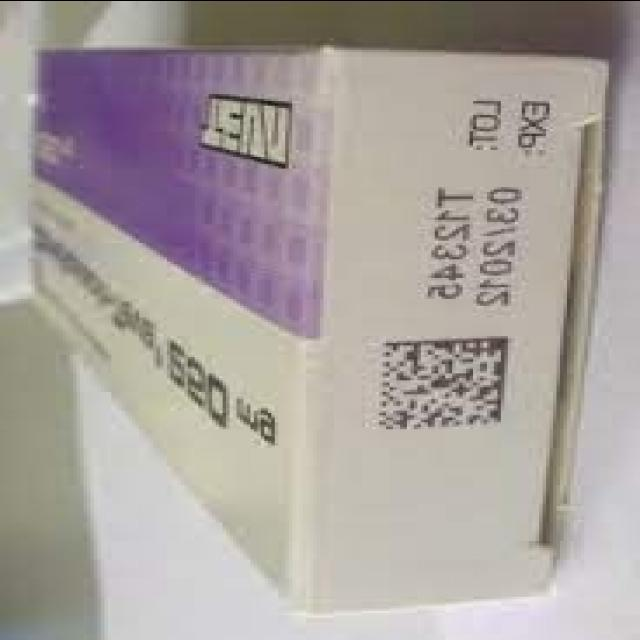Data-Matrix: (362, 330, 515, 433)
